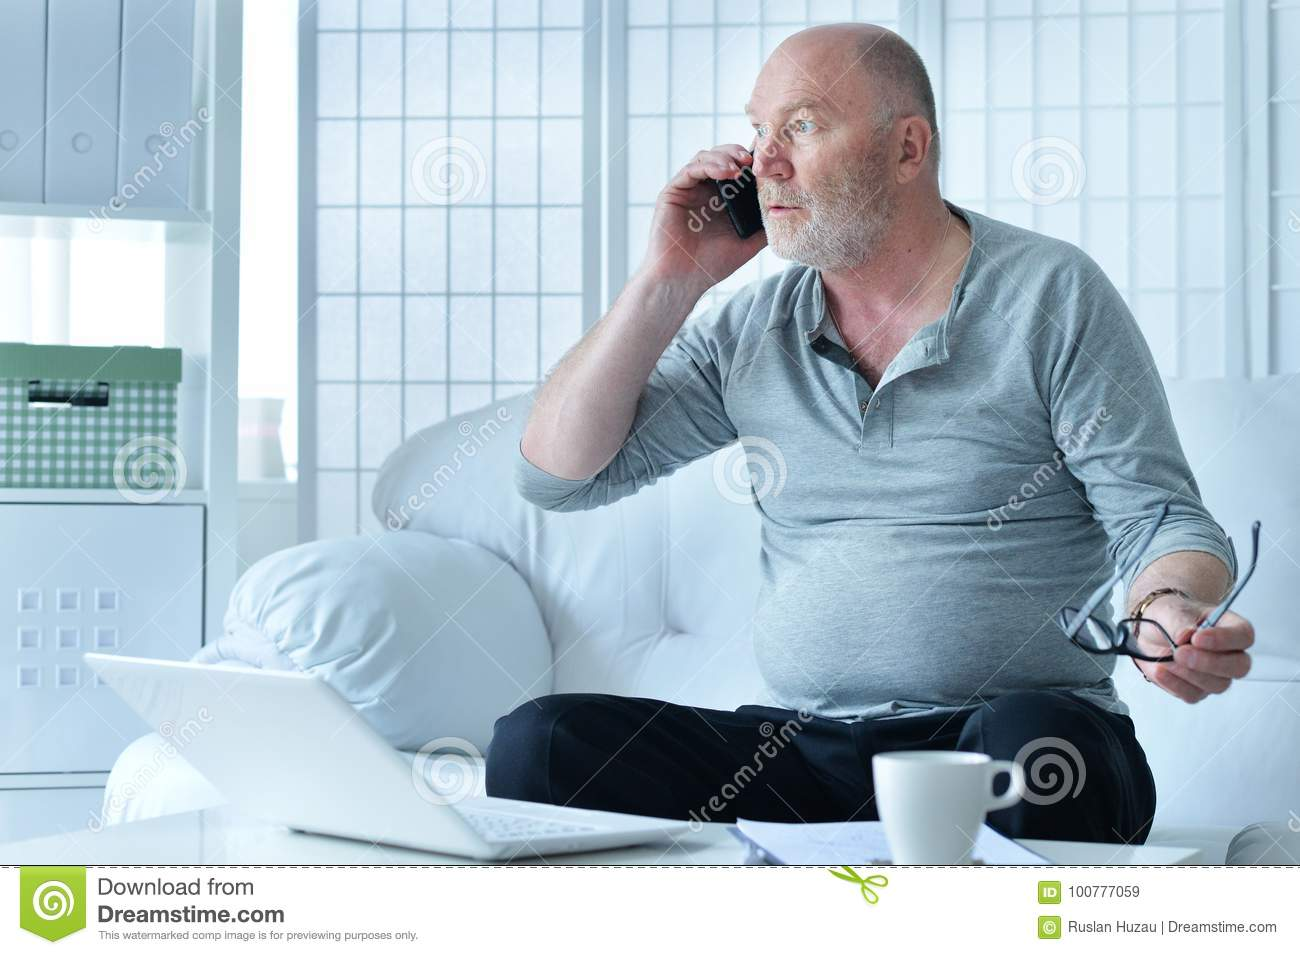phone: (717, 143, 763, 240)
talk: (645, 93, 851, 302)
